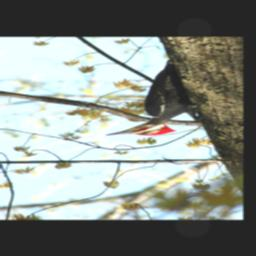Woodpecker: (100, 58, 199, 137)
